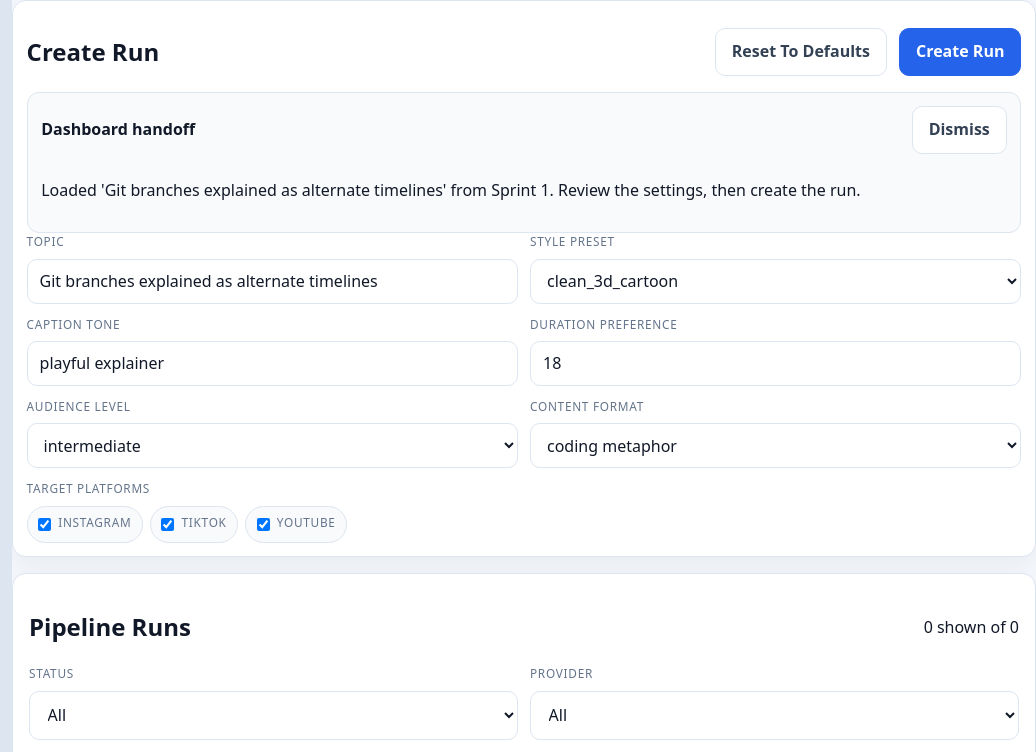
Test: DashboardPage handoff precedence › keeps the handoff notice after failed creation and clears it after successful creation
The width and height of the screenshot is (1036, 752).
Click the button "Create Run" at point(960, 52), box top-left (899, 28), bottom-right (1021, 76)
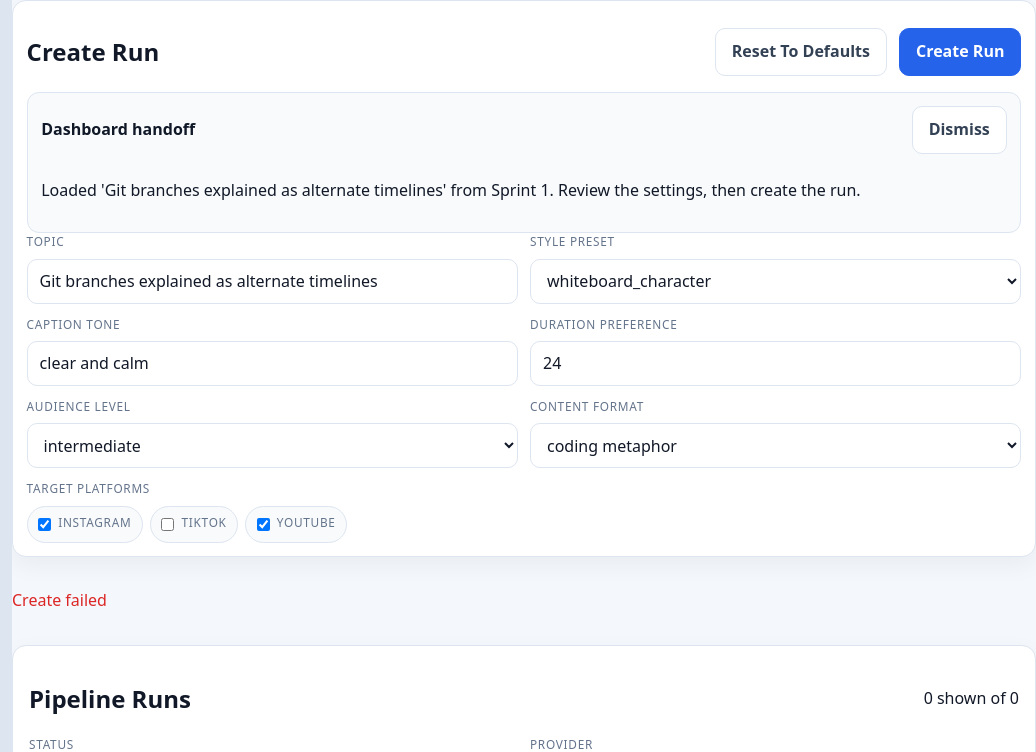
Check: the text "Loaded 'Git branches explained as alternate timelines' from Sprint 1" is shown, box top-left (41, 179), bottom-right (861, 201)
Check: the text "Create failed" is shown, box top-left (12, 590), bottom-right (107, 612)
Click the button "Create Run" at point(960, 52), box top-left (899, 28), bottom-right (1021, 76)
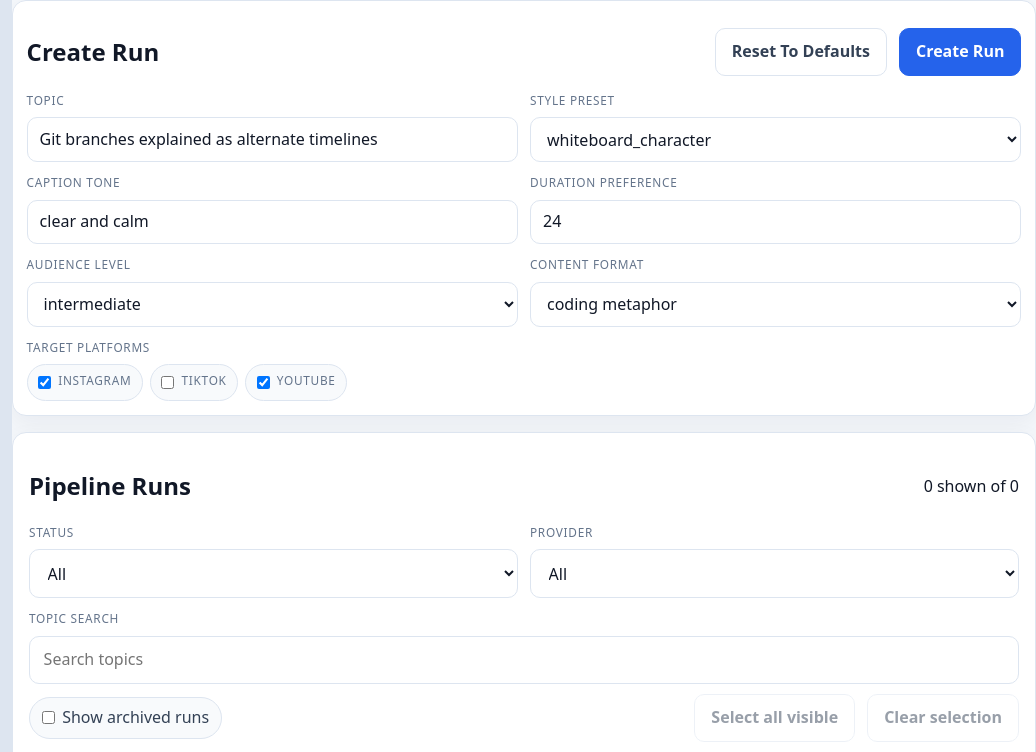
Check: the text "Dashboard handoff" is gone
